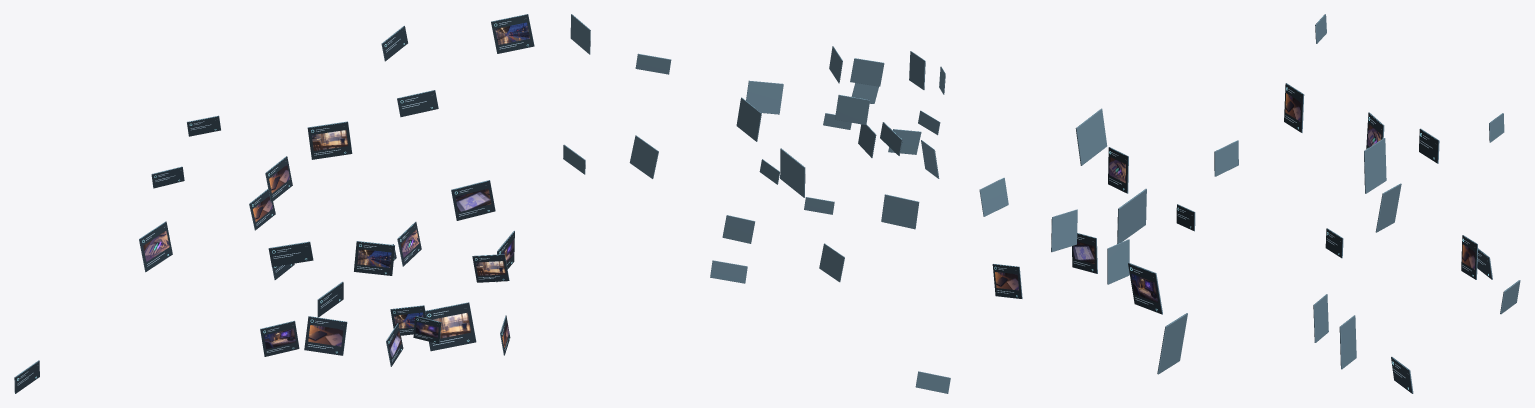
The model's file is title_background.glb.
The picture shows the model from 3 angles, left to right: view 1: azimuth 30°, elevation 25°; view 2: azimuth 150°, elevation 25°; view 3: azimuth 270°, elevation 25°; orthographic projection. The views are drawn at different scales.
Visible parts, largest first — view 1: TimelinePost11Surface, TimelinePost07Surface, TimelinePost14Surface, TimelinePost16Surface, TimelinePost21Surface, TimelinePost02Surface, TimelinePost19Surface, TimelinePost18Surface, TimelinePost04Surface, TimelinePost10Surface, TimelinePost25Surface, TimelinePost13Surface (+10 smaller); view 2: TimelinePost08Surface, TimelinePost19Surface, TimelinePost13Surface, TimelinePost11Surface, TimelinePost16Surface, TimelinePost03Surface, TimelinePost14Surface, TimelinePost23Surface, TimelinePost20Surface, TimelinePost18Surface, TimelinePost24Surface, TimelinePost15Surface (+9 smaller); view 3: TimelinePost08Surface, TimelinePost02Surface, TimelinePost07Surface, TimelinePost11Surface, TimelinePost14Surface, TimelinePost04Surface, TimelinePost01Surface, TimelinePost05Surface, TimelinePost06Surface, TimelinePost03Surface, TimelinePost13Surface, TimelinePost00Surface (+6 smaller).
Part boxes in pixels (left/top/right/bottom): TimelinePost11Surface: left=425, top=302, right=476, bottom=351; TimelinePost07Surface: left=304, top=316, right=347, bottom=355; TimelinePost14Surface: left=307, top=121, right=352, bottom=159; TimelinePost16Surface: left=451, top=180, right=495, bottom=220; TimelinePost21Surface: left=491, top=14, right=534, bottom=53; TimelinePost02Surface: left=354, top=241, right=394, bottom=275; TimelinePost19Surface: left=139, top=221, right=172, bottom=272; TimelinePost18Surface: left=260, top=320, right=299, bottom=356; TimelinePost04Surface: left=472, top=254, right=509, bottom=282; TimelinePost10Surface: left=268, top=241, right=313, bottom=266; TimelinePost25Surface: left=397, top=90, right=438, bottom=117; TimelinePost13Surface: left=265, top=156, right=292, bottom=202; TimelinePost08Surface: left=746, top=80, right=783, bottom=114; TimelinePost19Surface: left=881, top=194, right=919, bottom=229; TimelinePost13Surface: left=835, top=95, right=869, bottom=124; TimelinePost11Surface: left=780, top=148, right=805, bottom=197; TimelinePost16Surface: left=629, top=135, right=658, bottom=178; TimelinePost03Surface: left=850, top=58, right=884, bottom=86; TimelinePost14Surface: left=736, top=97, right=761, bottom=141; TimelinePost23Surface: left=722, top=215, right=755, bottom=243; TimelinePost20Surface: left=710, top=260, right=747, bottom=283; TimelinePost18Surface: left=819, top=243, right=844, bottom=282; TimelinePost24Surface: left=915, top=371, right=950, bottom=393; TimelinePost15Surface: left=635, top=53, right=671, bottom=74; TimelinePost08Surface: left=1128, top=262, right=1162, bottom=314; TimelinePost02Surface: left=1075, top=108, right=1107, bottom=165; TimelinePost07Surface: left=1117, top=188, right=1146, bottom=243; TimelinePost11Surface: left=1157, top=313, right=1187, bottom=374; TimelinePost14Surface: left=1364, top=138, right=1386, bottom=193; TimelinePost04Surface: left=1051, top=209, right=1077, bottom=252; TimelinePost01Surface: left=992, top=264, right=1022, bottom=298; TimelinePost05Surface: left=1072, top=233, right=1097, bottom=273; TimelinePost06Surface: left=1107, top=239, right=1129, bottom=284; TimelinePost03Surface: left=1108, top=147, right=1128, bottom=193; TimelinePost13Surface: left=1284, top=83, right=1304, bottom=132; TimelinePost00Surface: left=979, top=177, right=1008, bottom=216.
Size of the model in its own units: 48.75 by 28.52 by 40.05.
6 materials, 1 textured.
